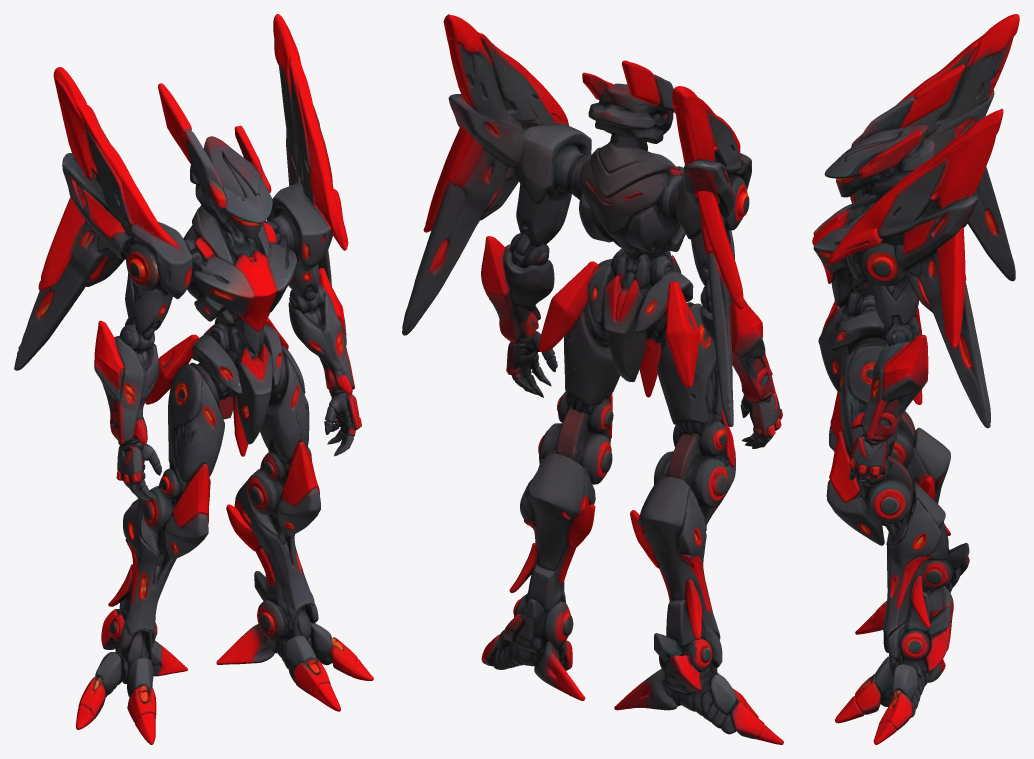
The model's file is kestrel.glb.
3 views of the same model, side by side, from view 1: azimuth 30°, elevation 25°; view 2: azimuth 150°, elevation 25°; view 3: azimuth 270°, elevation 25° (orthographic). The views are drawn at different scales.
Parts seen in each view (by area): view 1: tripo_node_c4047506-28d8-4e54-a8f1-b78239543f2a; view 2: tripo_node_c4047506-28d8-4e54-a8f1-b78239543f2a; view 3: tripo_node_c4047506-28d8-4e54-a8f1-b78239543f2a.
Boxes of the visible parts, x1,y1,x2,y2 form: tripo_node_c4047506-28d8-4e54-a8f1-b78239543f2a: [14, 14, 373, 744]; tripo_node_c4047506-28d8-4e54-a8f1-b78239543f2a: [402, 14, 783, 744]; tripo_node_c4047506-28d8-4e54-a8f1-b78239543f2a: [812, 14, 1019, 744].
Bounding box in the file's own units: 0.4978 × 0.9829 × 0.2959.
1 material, 1 textured.
